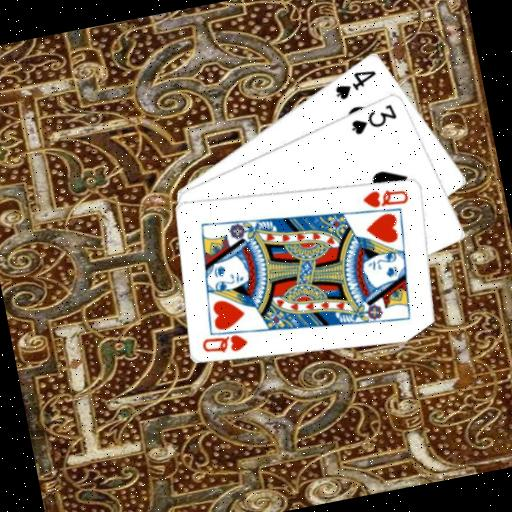3S: (345, 100, 401, 138)
4S: (330, 65, 382, 103)
QH: (197, 321, 258, 360), (359, 181, 412, 213)
